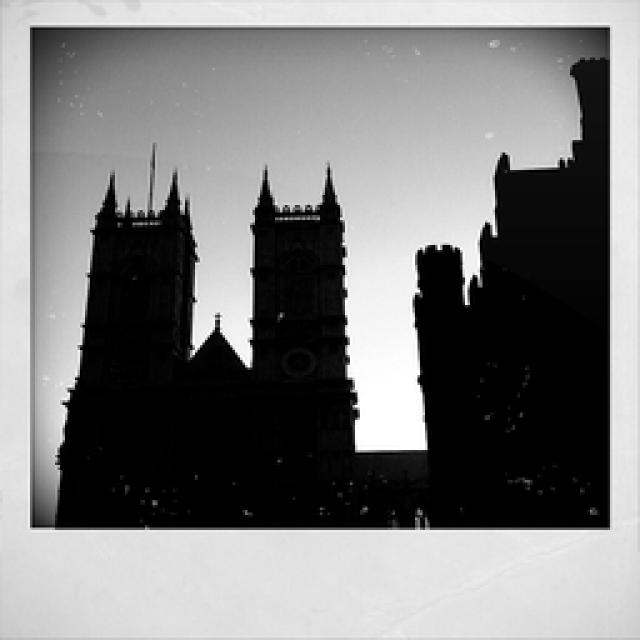Abbey: (91, 182, 368, 518)
